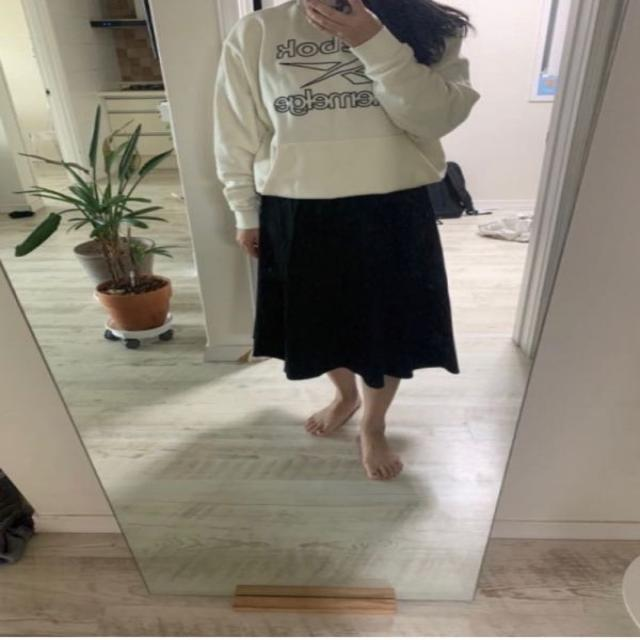mtm: (215, 4, 477, 230)
skirt: (251, 188, 457, 387)
